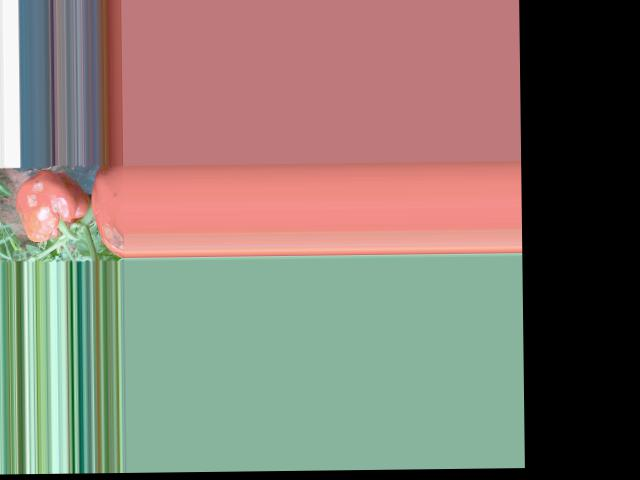bell_pepper: (18, 165, 88, 249)
